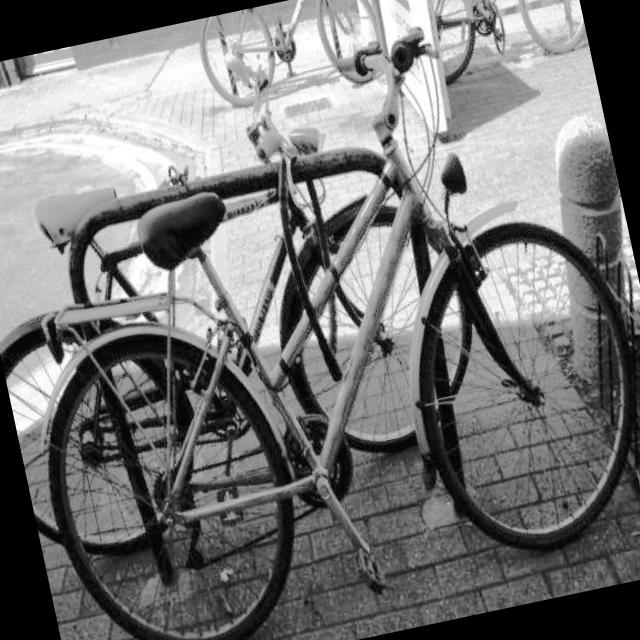Bicycle: (13, 69, 627, 640), (120, 0, 393, 133), (395, 0, 594, 107)
